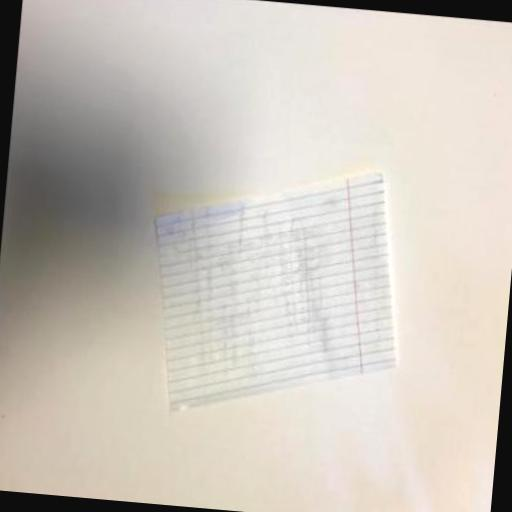paper: (138, 154, 414, 431)
